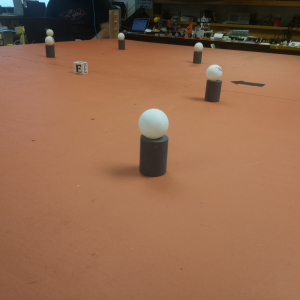obstacle: (138, 109, 169, 180), (205, 63, 222, 102), (192, 42, 205, 65), (43, 35, 55, 58), (116, 32, 126, 50), (45, 29, 55, 42)
